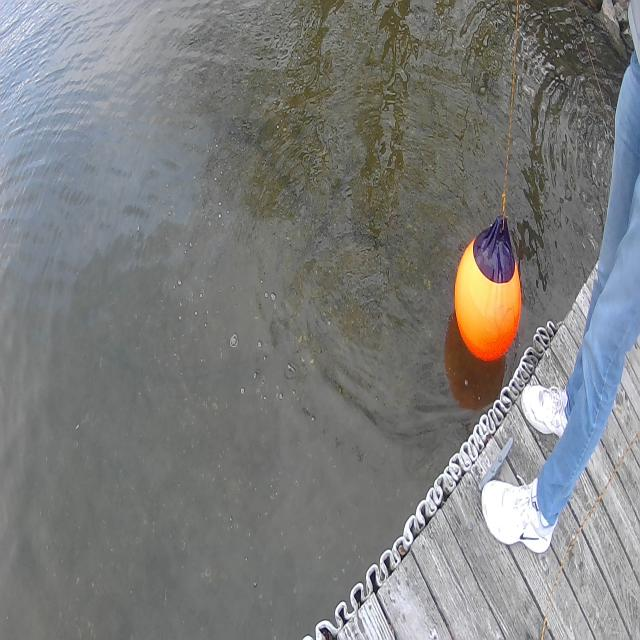Buoy: (447, 208, 527, 366)
